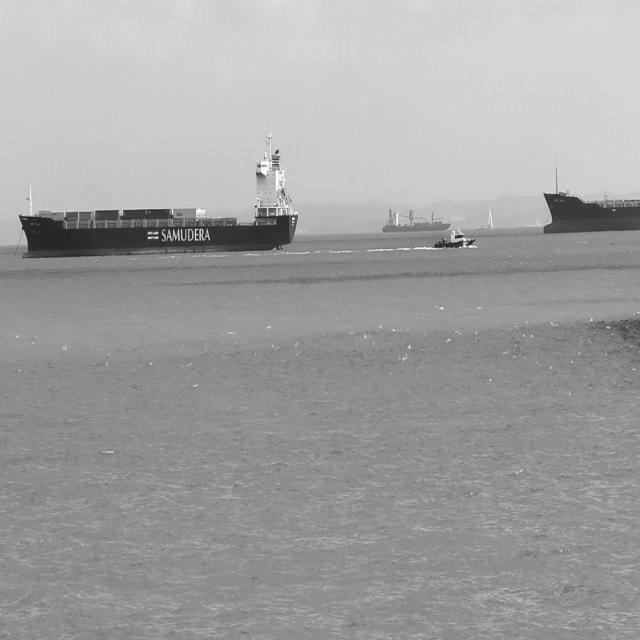ship: (18, 129, 300, 259), (544, 158, 640, 234), (381, 206, 452, 233), (433, 228, 477, 250), (486, 206, 494, 230), (477, 226, 486, 230)
